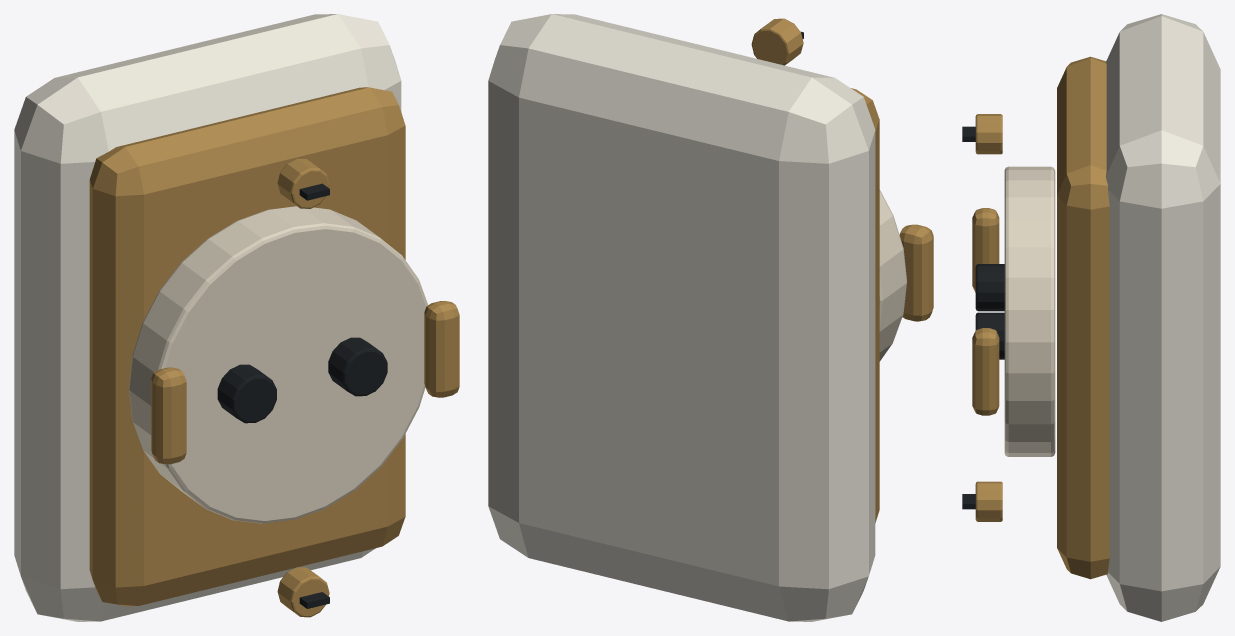
The model's file is wall_outlet.glb.
3 views of the same model, side by side, from view 1: azimuth 30°, elevation 25°; view 2: azimuth 150°, elevation 25°; view 3: azimuth 270°, elevation 25° (orthographic). The views are drawn at different scales.
Parts seen in each view (by area): view 1: wall_outlet; view 2: wall_outlet; view 3: wall_outlet.
Boxes of the visible parts, x1=… form: wall_outlet: x1=14, y1=14, x2=459, y2=621; wall_outlet: x1=488, y1=14, x2=933, y2=621; wall_outlet: x1=962, y1=14, x2=1220, y2=621.
Bounding box in the file's own units: 0.115 × 0.16 × 0.0765.
